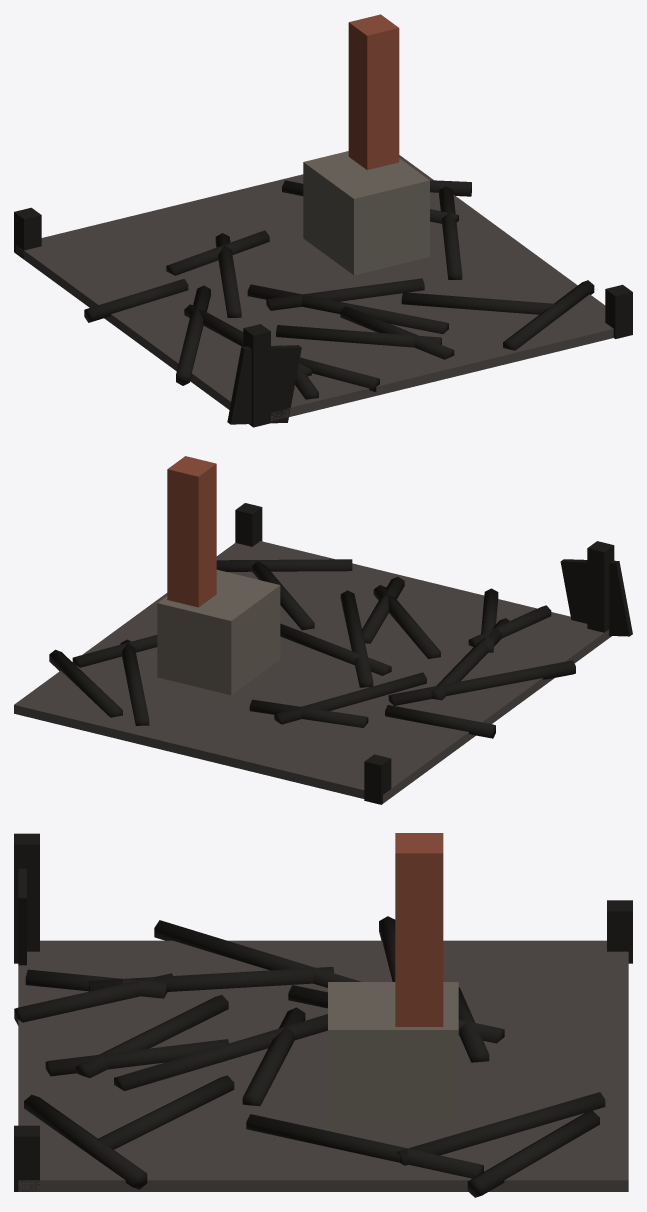
The model's file is ruin_house.glb.
3 views of the same model, one above another, from view 1: azimuth 30°, elevation 25°; view 2: azimuth 150°, elevation 25°; view 3: azimuth 270°, elevation 25° (orthographic). The views are drawn at different scales.
Visible parts, largest first — view 1: RuinHouse; view 2: RuinHouse; view 3: RuinHouse.
Part boxes in pixels (x1,y1,x2,y2): RuinHouse: (14,14,632,427); RuinHouse: (14,456,632,804); RuinHouse: (14,833,632,1197).
Bounding box in the file's own units: 7.21 × 3.69 × 7.1.
